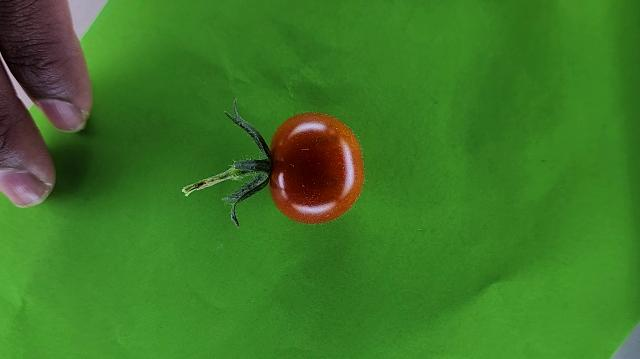Fully Grown: (267, 112, 366, 226)
